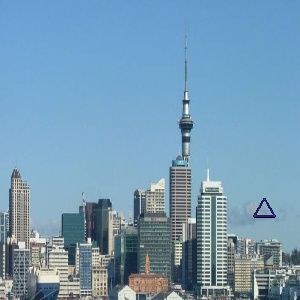triangle: (250, 195, 279, 219)
